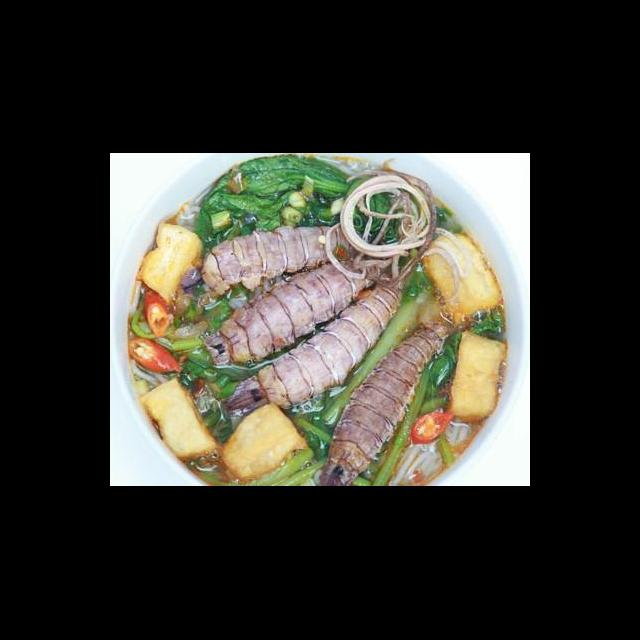bun: (387, 404, 478, 486)
dau hu: (418, 228, 505, 334), (216, 398, 312, 484), (136, 374, 222, 462), (129, 218, 210, 310), (442, 324, 509, 424)
tom tit: (221, 264, 410, 420), (198, 248, 391, 372), (315, 314, 450, 486), (174, 224, 377, 314)
